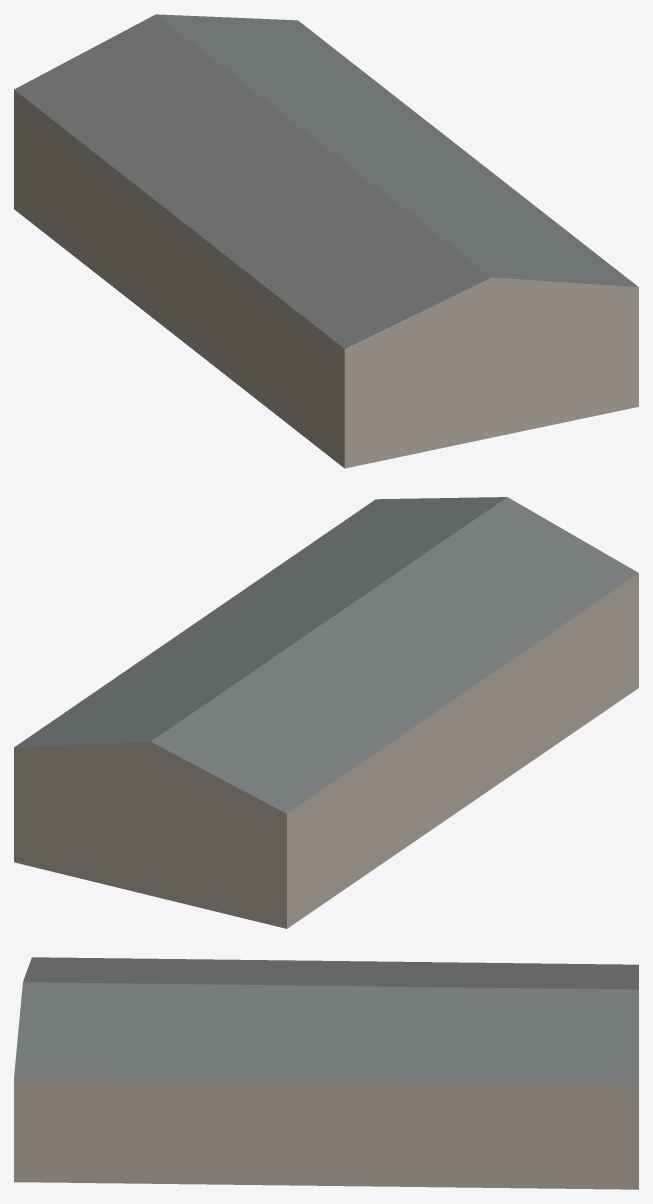
File: 327f22594f3f-chunk-1196_11846.glb
The picture shows the model from 3 angles, top to bottom: view 1: azimuth 30°, elevation 25°; view 2: azimuth 150°, elevation 25°; view 3: azimuth 270°, elevation 25°; orthographic projection. The views are drawn at different scales.
Parts seen in each view (by area): view 1: building_34628; view 2: building_34628; view 3: building_34628.
Boxes of the visible parts, box(x1,y1,x2,y2) form: building_34628: box(14, 14, 638, 468); building_34628: box(14, 497, 638, 928); building_34628: box(14, 957, 638, 1189).
Size of the model in its own units: 7.65 by 3.88 by 15.75.
